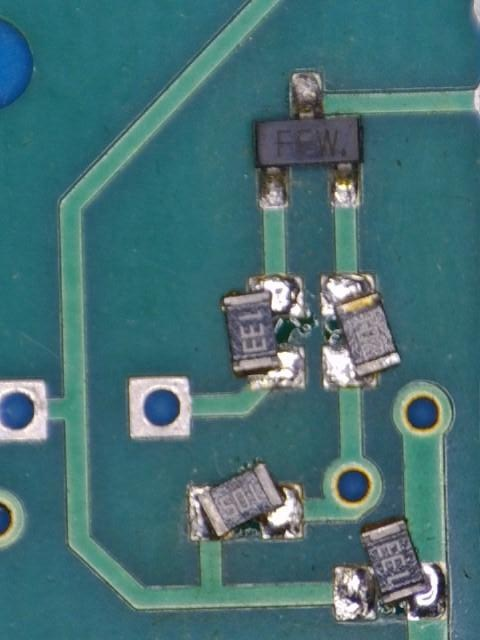pcb_defect: (336, 518, 449, 622), (223, 273, 306, 389), (320, 273, 402, 389), (189, 462, 305, 541)
